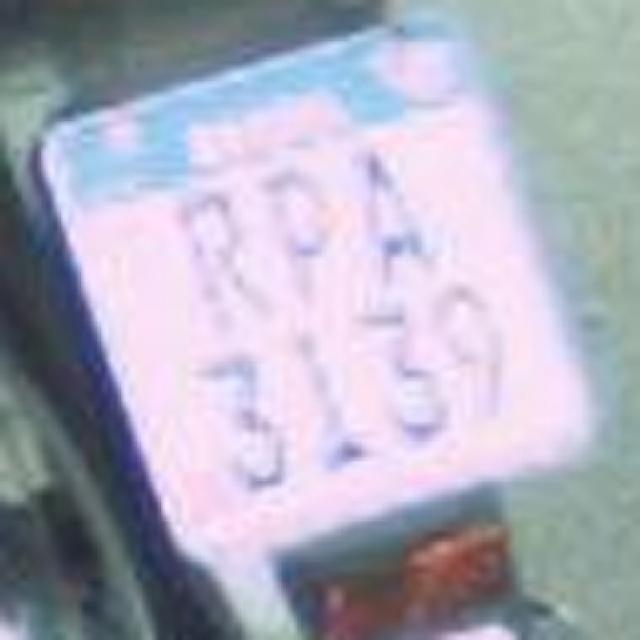1: (272, 308, 396, 480)
3: (176, 335, 324, 500)
5: (352, 280, 468, 440)
P: (152, 176, 288, 329), (232, 149, 356, 316)
